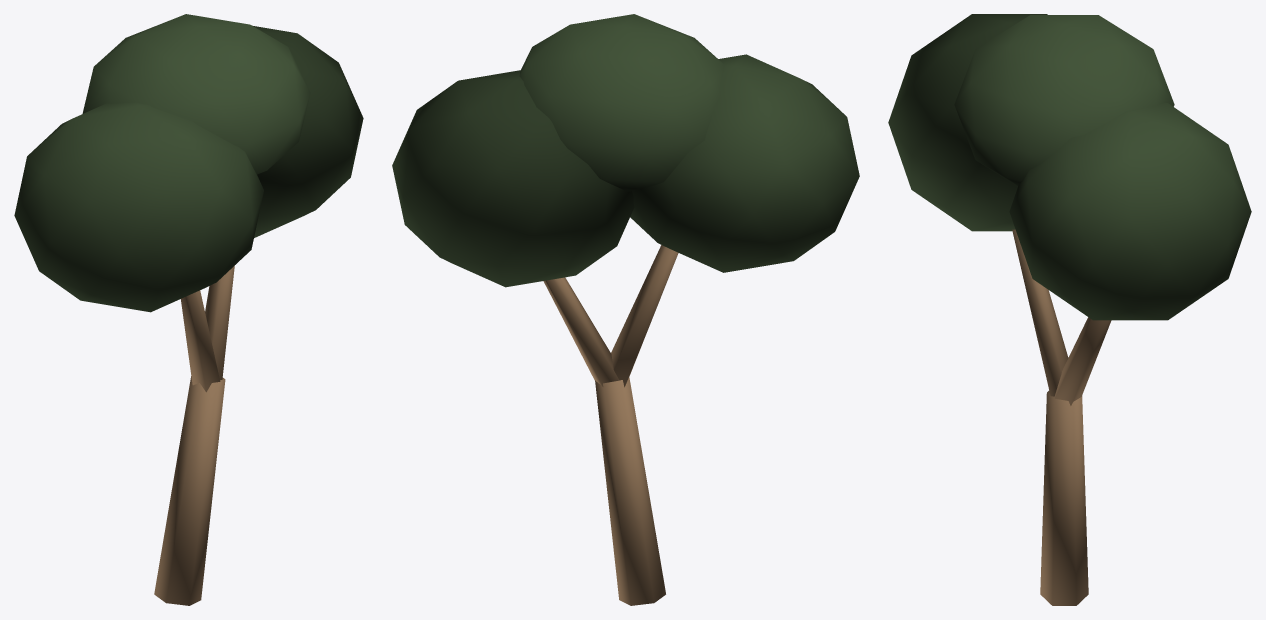
File: scatter2.fbx
3 views of the same model, side by side, from view 1: azimuth 30°, elevation 25°; view 2: azimuth 150°, elevation 25°; view 3: azimuth 270°, elevation 25° (orthographic). The views are drawn at different scales.
Visible parts, largest first — view 1: a2000/800/scatter2; view 2: a2000/800/scatter2; view 3: a2000/800/scatter2.
Boxes of the visible parts, x1,y1,x2,y2 form: a2000/800/scatter2: (14, 14, 363, 605); a2000/800/scatter2: (392, 14, 859, 605); a2000/800/scatter2: (888, 14, 1251, 605).
Size of the model in its own units: 1.99 by 2.91 by 1.65.
